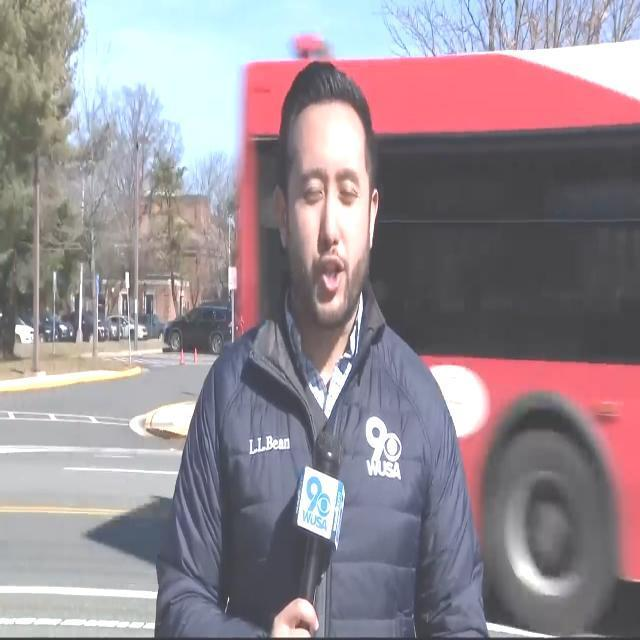non-fight: (226, 61, 491, 640)
